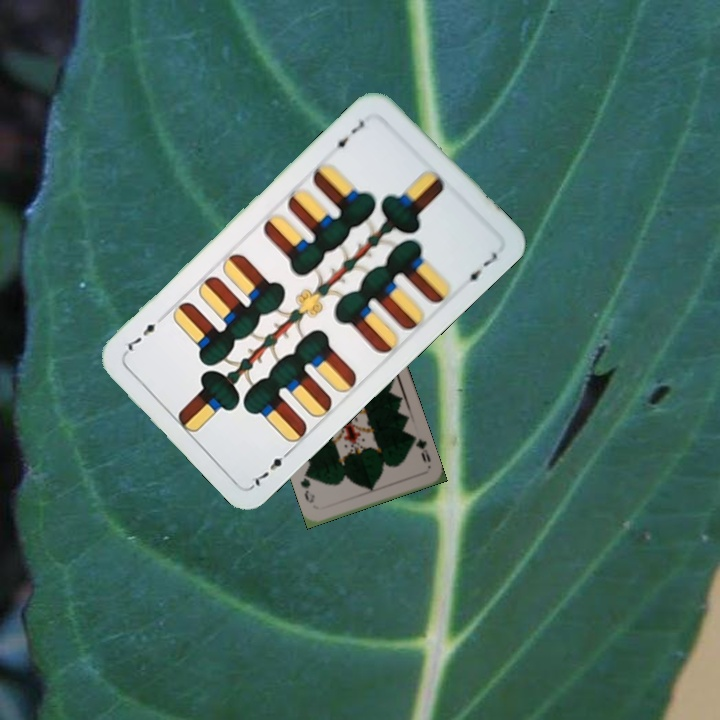E7: (247, 445, 295, 490), (328, 116, 367, 153)
G9: (409, 432, 433, 466)
